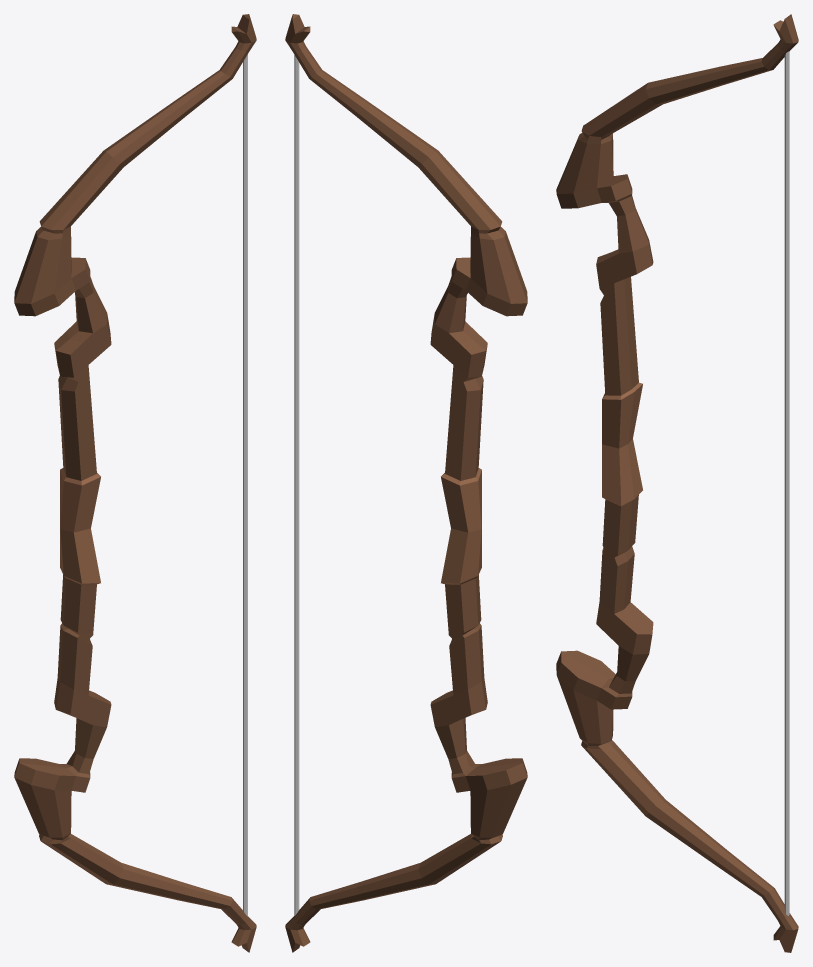
Rendered from Q_Bow_Wooden2-BfnTc1Qm.glb.
3 views of the same model, side by side, from view 1: azimuth 30°, elevation 25°; view 2: azimuth 150°, elevation 25°; view 3: azimuth 330°, elevation 25° (orthographic).
Visible parts, largest first — view 1: Bow_Wooden2; view 2: Bow_Wooden2; view 3: Bow_Wooden2.
Boxes of the visible parts, x1,y1,x2,y2 form: Bow_Wooden2: (14,14,256,952); Bow_Wooden2: (285,14,527,952); Bow_Wooden2: (556,14,798,952).
Size of the model in its own units: 1.47 by 5.44 by 0.2434.
